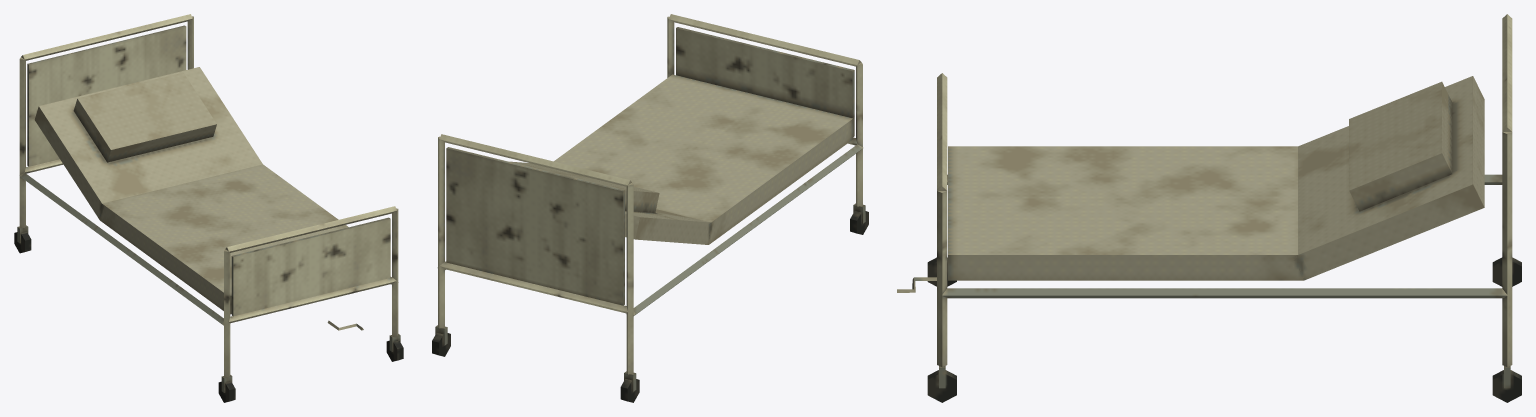
Rendered from Bed_Hospital_01.obj.
The picture shows the model from 3 angles, left to right: view 1: azimuth 30°, elevation 25°; view 2: azimuth 150°, elevation 25°; view 3: azimuth 270°, elevation 25°; orthographic projection. The views are drawn at different scales.
Parts seen in each view (by area): view 1: Bed_Hospital_01; view 2: Bed_Hospital_01; view 3: Bed_Hospital_01.
Boxes of the visible parts, x1,y1,x2,y2 form: Bed_Hospital_01: (14,14,403,402); Bed_Hospital_01: (432,14,868,402); Bed_Hospital_01: (897,14,1521,402).
Size of the model in its own units: 0.997 by 1.07 by 2.21.
Materials: 1 (1 with a texture image).
